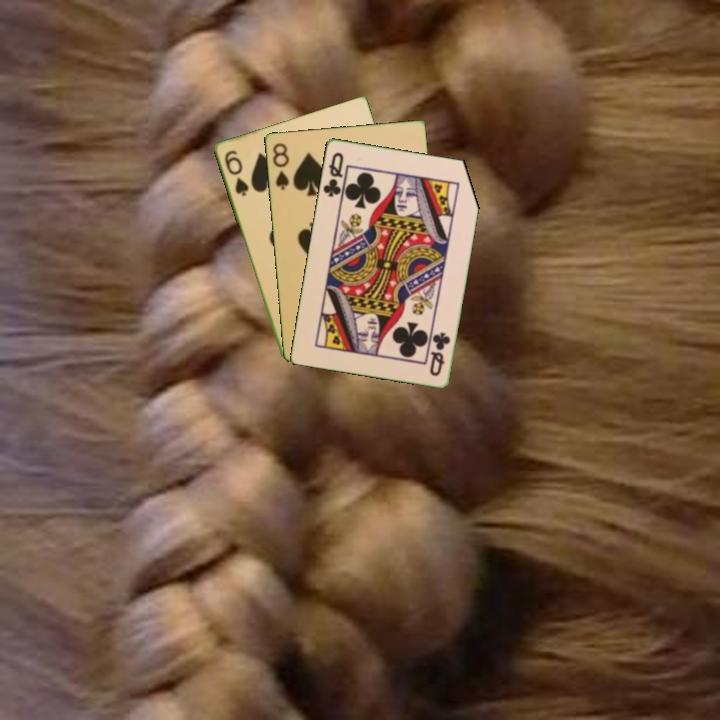6s: (220, 146, 251, 199)
8s: (269, 139, 291, 192)
Qc: (319, 148, 346, 200), (426, 328, 453, 379)
